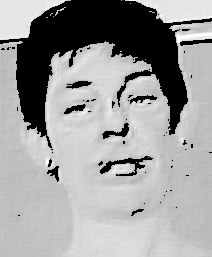nose_M_C: (98, 101, 133, 147)
